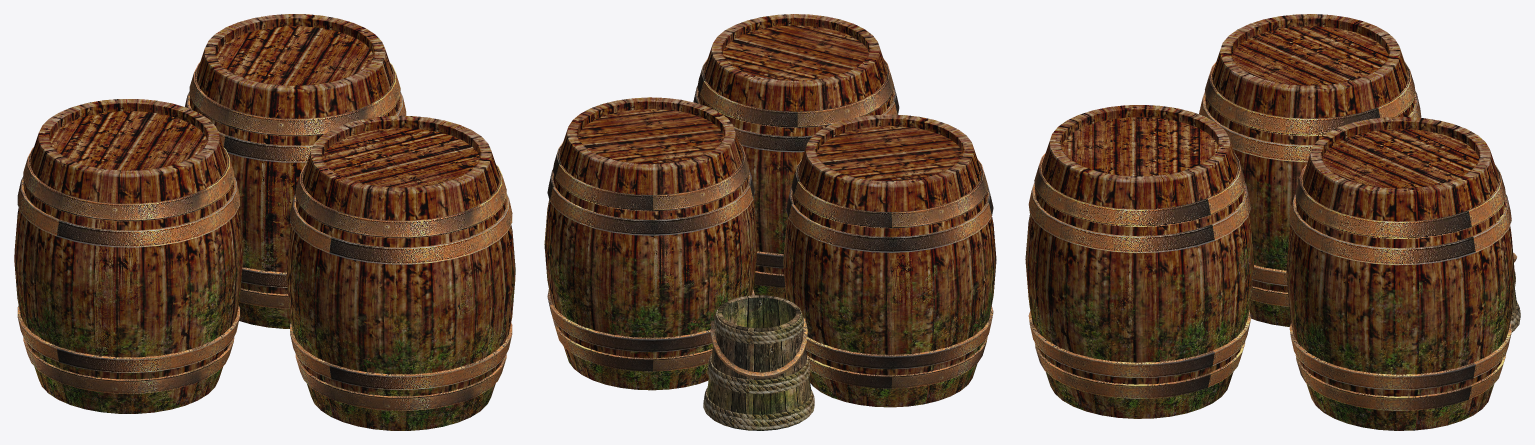
The model's file is Wooden_barrels.FBX.
3 views of the same model, side by side, from view 1: azimuth 30°, elevation 25°; view 2: azimuth 150°, elevation 25°; view 3: azimuth 270°, elevation 25° (orthographic). The views are drawn at different scales.
Visible parts, largest first — view 1: Wooden_barrel_01, Wooden_barrel_03, Wooden_barrel_02; view 2: Wooden_barrel_03, Wooden_barrel_02, Wooden_barrel_01, Wooden_kadkam; view 3: Wooden_barrel_02, Wooden_barrel_01, Wooden_barrel_03.
Part boxes in pixels (left/top/right/bottom): Wooden_barrel_01: left=286, top=116, right=515, bottom=430; Wooden_barrel_03: left=14, top=99, right=243, bottom=413; Wooden_barrel_02: left=185, top=14, right=406, bottom=328; Wooden_barrel_03: left=783, top=114, right=996, bottom=407; Wooden_barrel_02: left=544, top=97, right=757, bottom=390; Wooden_barrel_01: left=693, top=14, right=899, bottom=299; Wooden_kadkam: left=703, top=295, right=814, bottom=430; Wooden_barrel_02: left=1286, top=117, right=1514, bottom=430; Wooden_barrel_01: left=1025, top=105, right=1253, bottom=418; Wooden_barrel_03: left=1199, top=14, right=1421, bottom=326.
Size of what is drawn, in the model's own units: 170 by 178 by 94.42.
